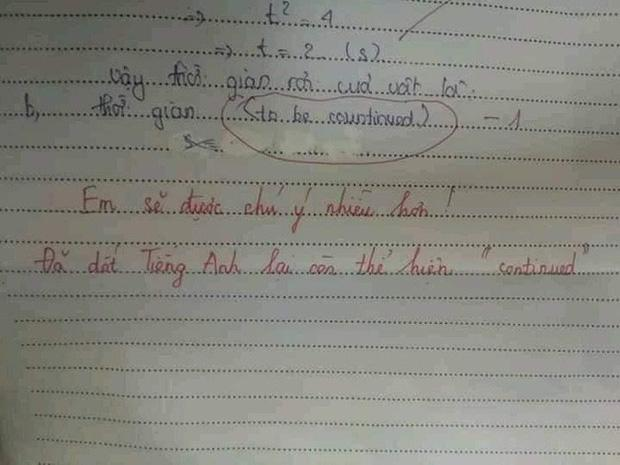text: (29, 240, 591, 291), (79, 182, 457, 239), (107, 55, 477, 105), (89, 91, 431, 134), (255, 34, 382, 64), (262, 0, 335, 27), (481, 105, 522, 132), (20, 91, 41, 125)
